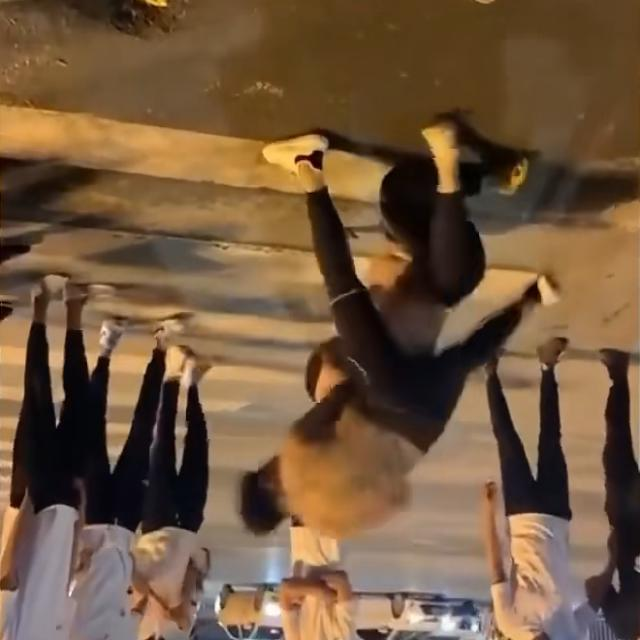fight: (226, 144, 543, 544)
nofight: (1, 275, 110, 640), (122, 347, 230, 640), (490, 335, 590, 634)
